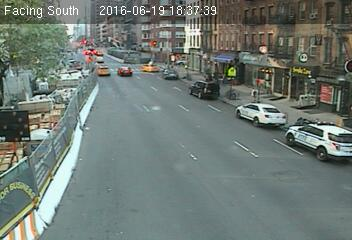neg: (97, 60, 117, 87), (150, 60, 160, 73), (133, 58, 141, 70)
pos: (248, 83, 263, 102), (183, 62, 190, 71)
